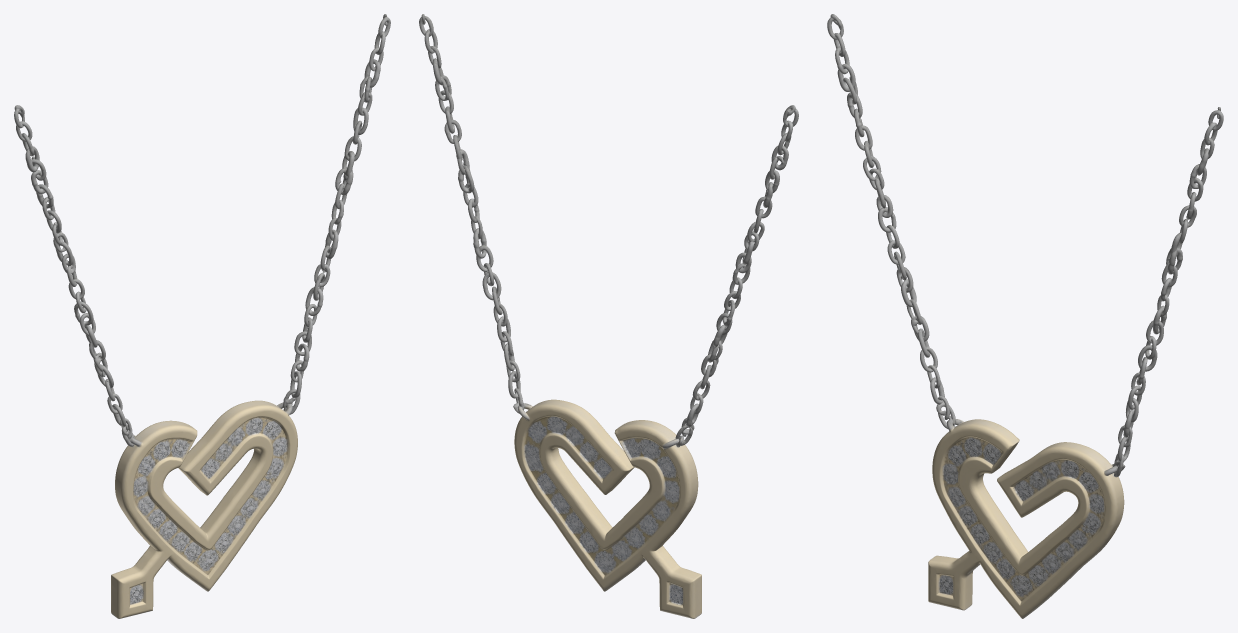
The model's file is 16-قلادة-حب.glb.
The picture shows the model from 3 angles, left to right: view 1: azimuth 30°, elevation 25°; view 2: azimuth 150°, elevation 25°; view 3: azimuth 330°, elevation 25°; orthographic projection. The views are drawn at different scales.
Bounding box in the file's own units: 1.4 × 1.9 × 0.0769.
1 material, 1 textured.
